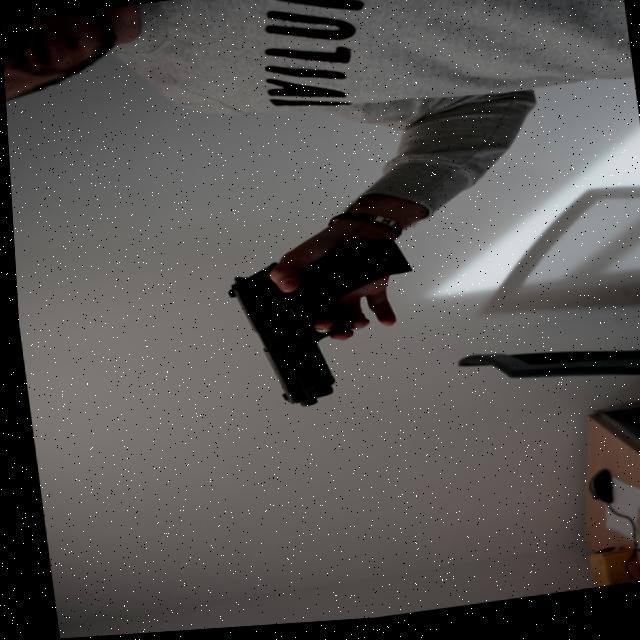pistol: (221, 236, 423, 415)
